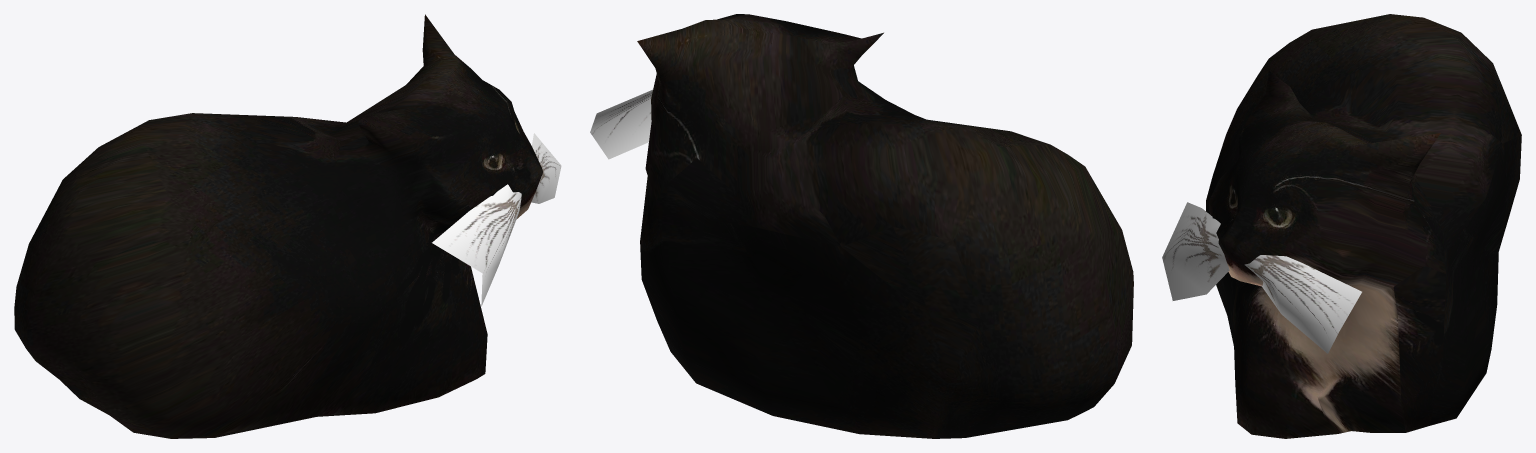
Rendered from maxwellthecat.dae.
3 renders of one model, left to right at view 1: azimuth 30°, elevation 25°; view 2: azimuth 150°, elevation 25°; view 3: azimuth 270°, elevation 25°, orthographic. The views are drawn at different scales.
Visible parts, largest first — view 1: dingus; view 2: dingus; view 3: dingus.
Part boxes in pixels (x1,y1,x2,y2): dingus: [14, 14, 561, 438]; dingus: [590, 14, 1133, 438]; dingus: [1162, 14, 1521, 438].
Bounding box in the file's own units: 33.23 × 18.75 × 19.21.
